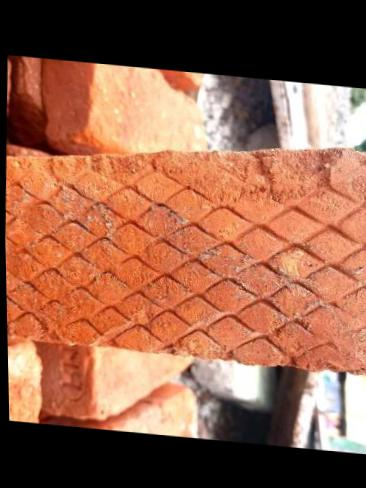brick: (3, 117, 366, 372), (43, 58, 98, 147), (39, 340, 99, 420)
